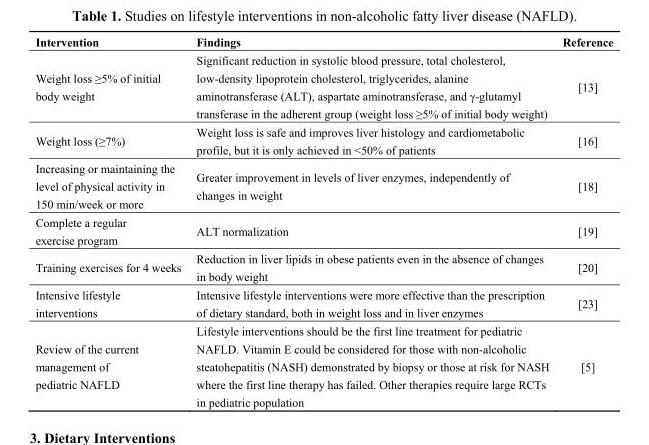table: (34, 34, 612, 408)
table column: (188, 34, 555, 408), (34, 34, 188, 408), (555, 34, 612, 408)
table column header: (34, 34, 612, 50)
table row: (34, 321, 612, 408), (34, 50, 612, 122), (34, 158, 612, 212), (34, 248, 612, 285), (34, 122, 612, 158), (34, 212, 612, 248), (34, 285, 612, 321), (34, 34, 612, 50)
